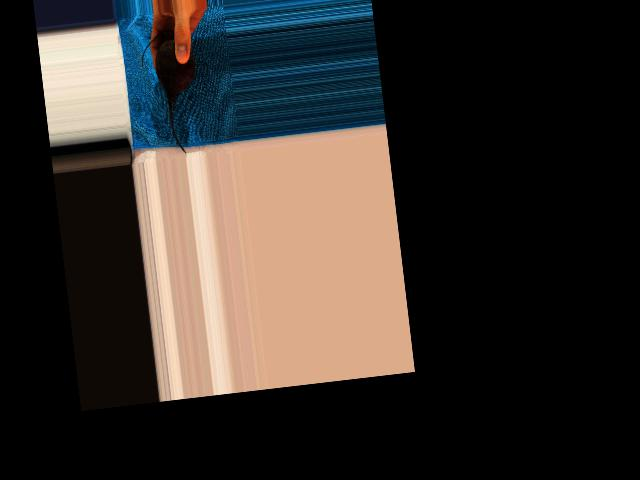beet: (139, 27, 205, 157)
